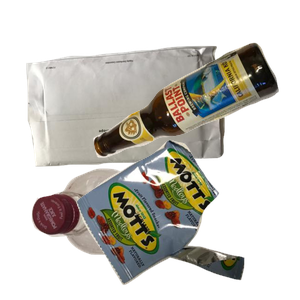glass: (91, 40, 300, 190)
paper: (24, 43, 242, 202)
plastic: (29, 166, 183, 300)
trash: (74, 137, 300, 300)
